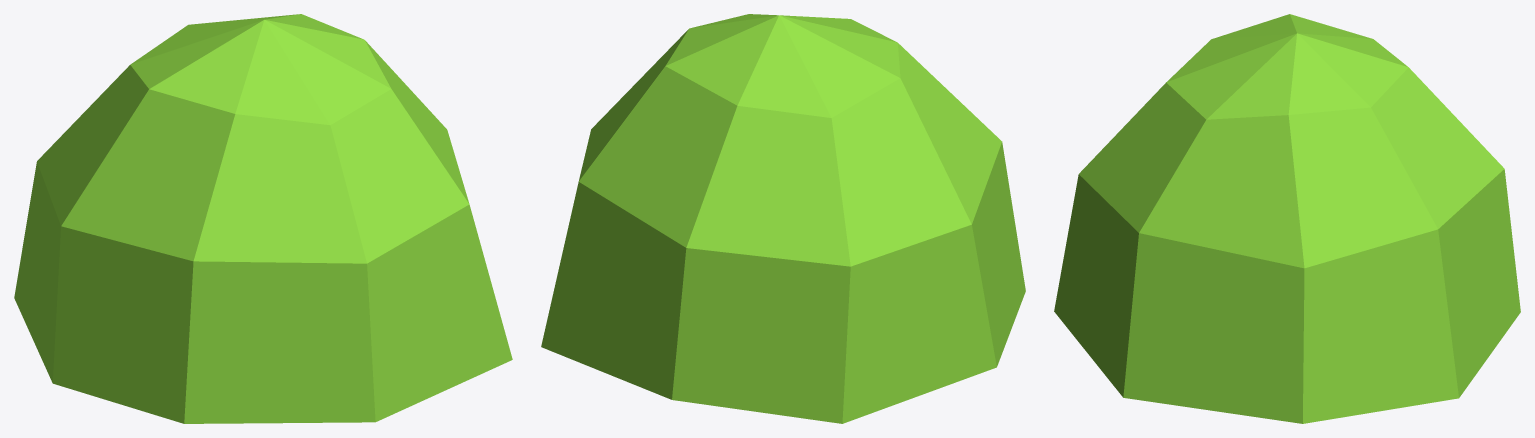
File: haystack.glb
3 views of the same model, side by side, from view 1: azimuth 30°, elevation 25°; view 2: azimuth 150°, elevation 25°; view 3: azimuth 270°, elevation 25° (orthographic). The views are drawn at different scales.
Parts seen in each view (by area): view 1: Hay; view 2: Hay; view 3: Hay.
Boxes of the visible parts, bbox=[...] form: Hay: bbox=[14, 14, 512, 423]; Hay: bbox=[541, 14, 1025, 423]; Hay: bbox=[1054, 14, 1520, 423].
Size of the model in its own units: 1.59 by 1.09 by 1.57.
